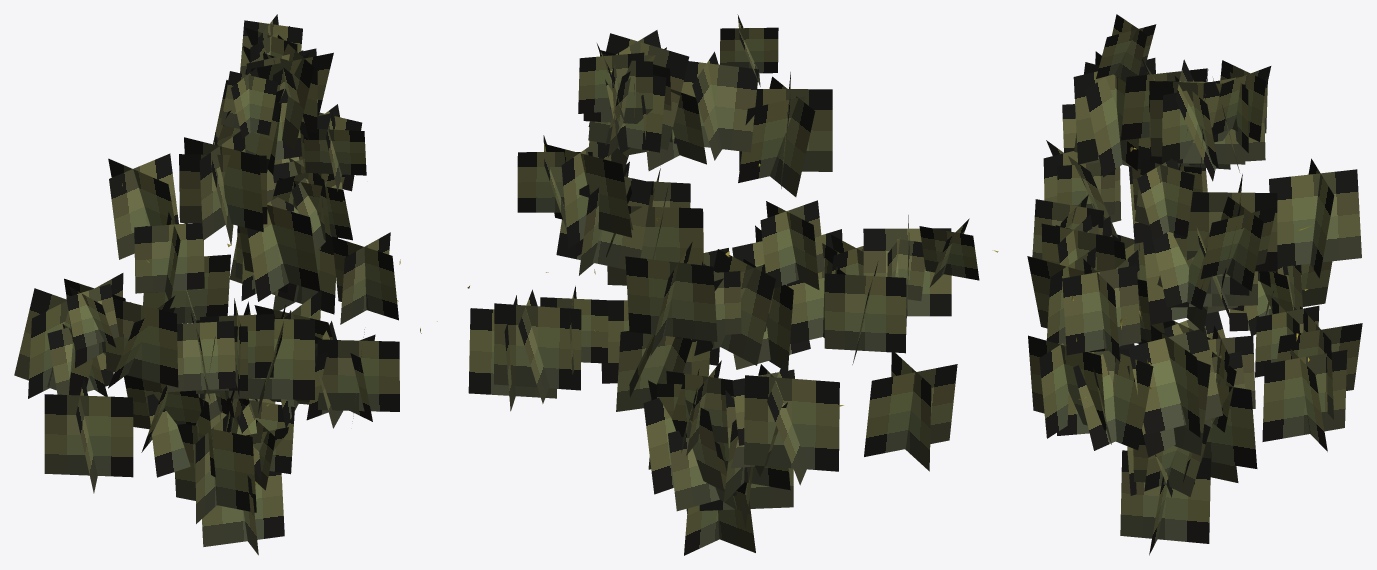
Rendered from paloverde.glb.
The picture shows the model from 3 angles, left to right: view 1: azimuth 30°, elevation 25°; view 2: azimuth 150°, elevation 25°; view 3: azimuth 270°, elevation 25°; orthographic projection. The views are drawn at different scales.
Parts seen in each view (by area): view 1: cards; view 2: cards; view 3: cards.
Boxes of the visible parts, <box> form: cards: <box>14,14,399,555</box>; cards: <box>468,14,979,555</box>; cards: <box>1027,14,1362,555</box>.
Bounding box in the file's own units: 0.8258 × 0.9871 × 0.5923.
2 materials, 2 textured.
